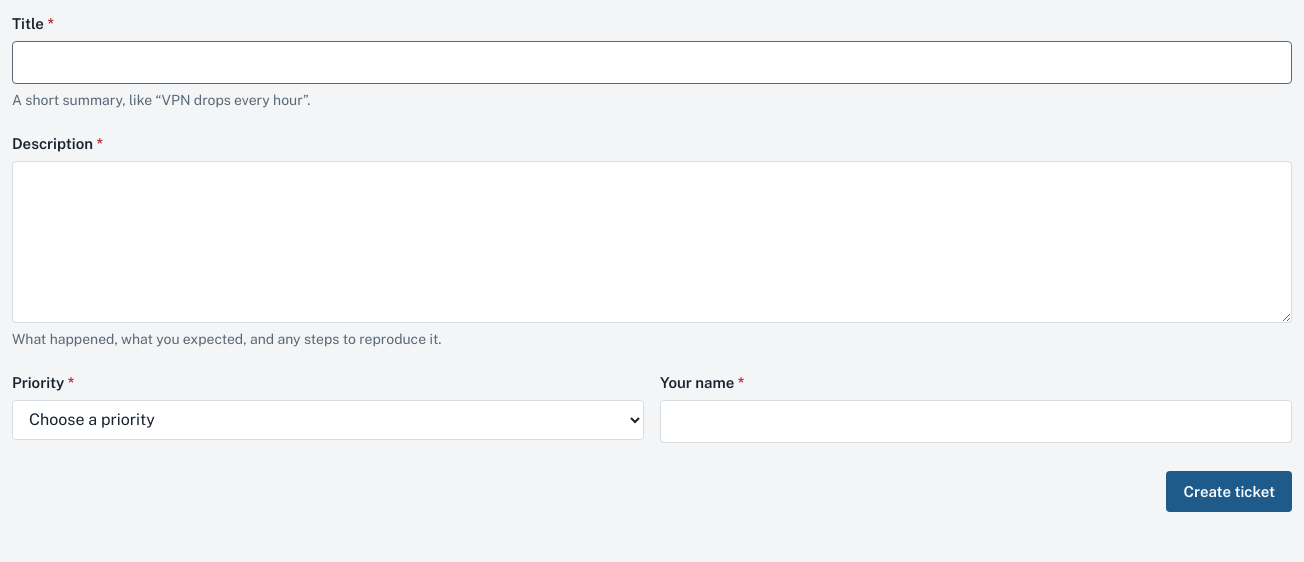
Test case: TicketForm › shows field errors and does not submit when required fields are empty
Click the button "Create ticket" at {"x": 1229, "y": 491}, box 1166,471 -> 1292,512
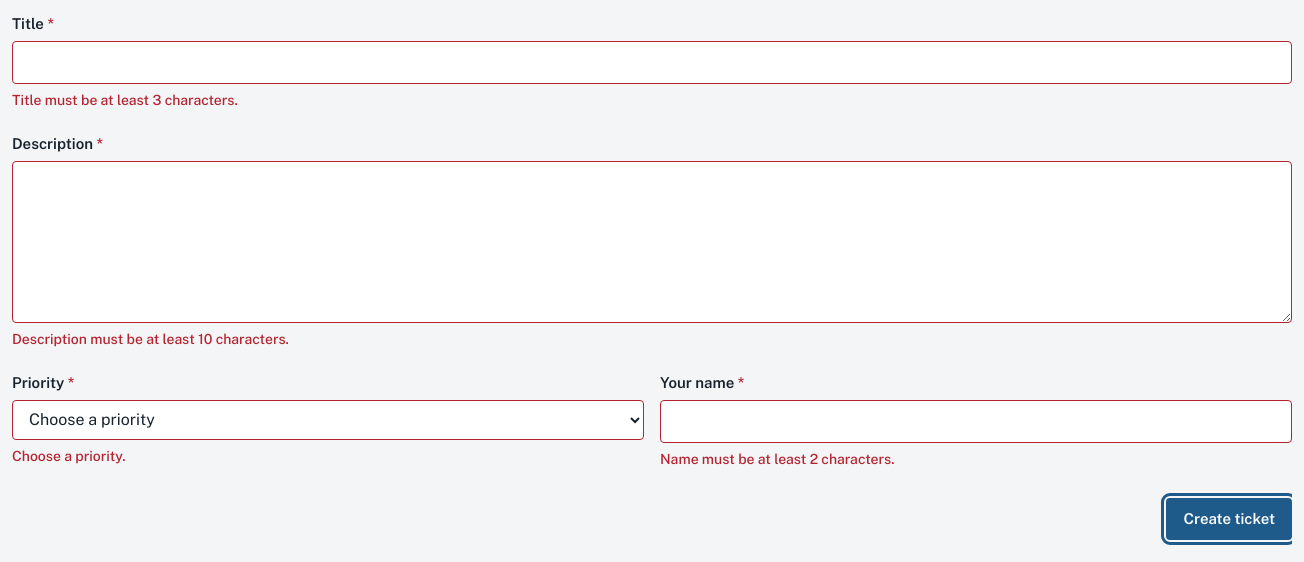
Check: the text "Title must be at least 3 characters." is shown, box 12,92 -> 238,108
Check: the text "Description must be at least 10 characters." is shown, box 12,331 -> 289,347
Check: the text "Choose a priority." is shown, box 12,448 -> 126,464
